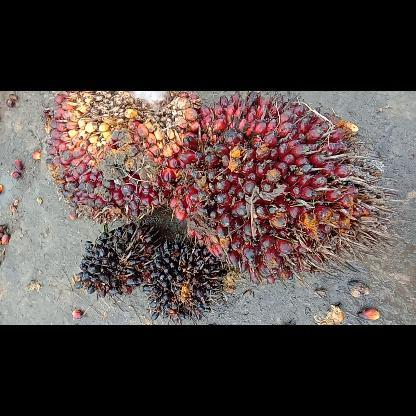TBS abnormal: (138, 234, 236, 322), (71, 220, 163, 298)
TBS masak: (162, 90, 406, 286), (42, 91, 202, 223)
